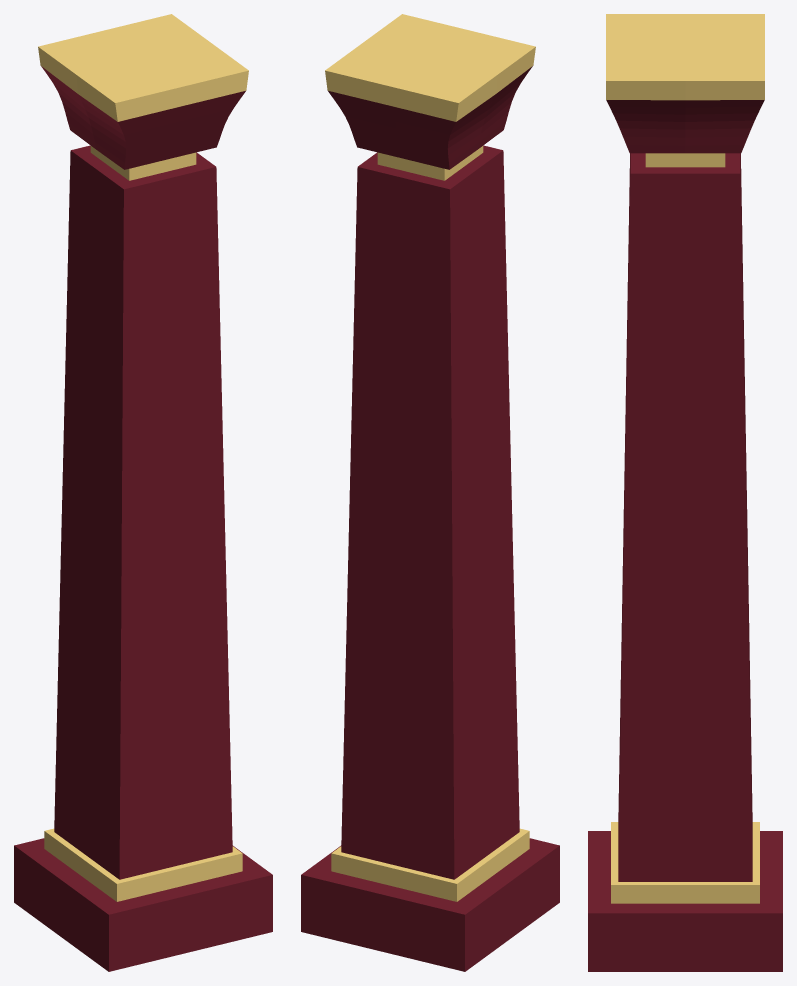
The model's file is pillar_001_grp.fbx.
The picture shows the model from 3 angles, left to right: view 1: azimuth 30°, elevation 25°; view 2: azimuth 150°, elevation 25°; view 3: azimuth 270°, elevation 25°; orthographic projection. The views are drawn at different scales.
Parts seen in each view (by area): view 1: pillar_001_grp; view 2: pillar_001_grp; view 3: pillar_001_grp.
Boxes of the visible parts, bbox=[...] form: pillar_001_grp: bbox=[14, 14, 272, 971]; pillar_001_grp: bbox=[301, 14, 559, 971]; pillar_001_grp: bbox=[588, 14, 782, 971].
Bounding box in the file's own units: 80 × 400 × 80.
